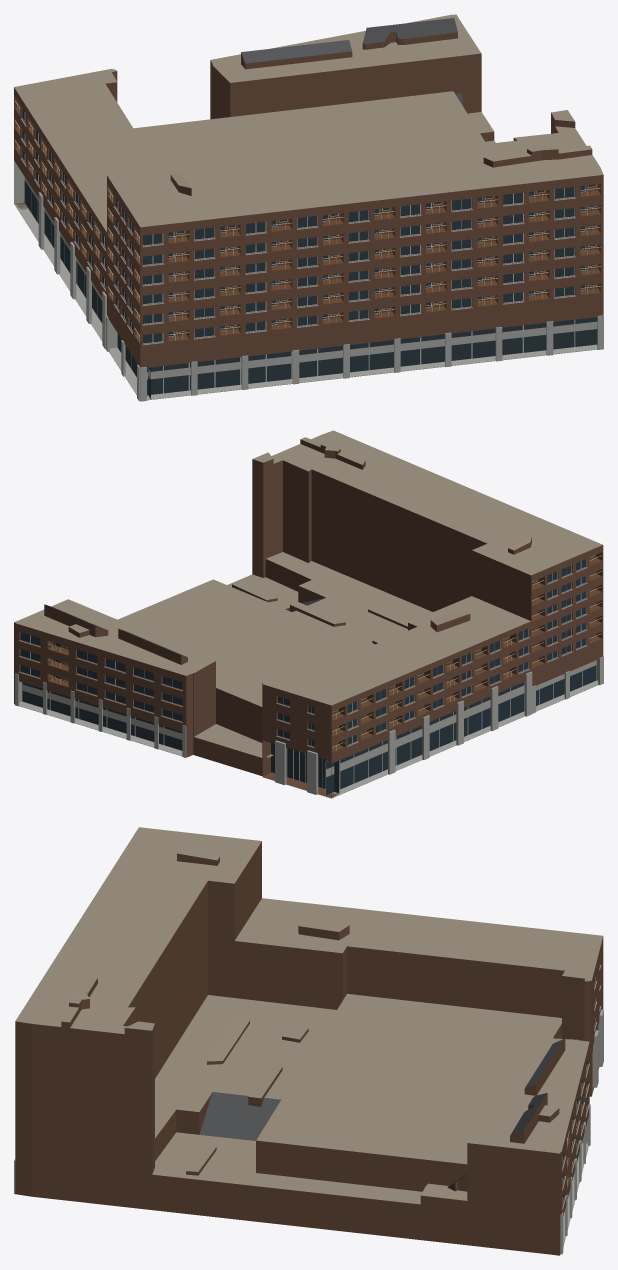
The model's file is recipe-large-rinus-michelslaan-2-26-240382.glb.
3 renders of one model, top to bottom at view 1: azimuth 30°, elevation 25°; view 2: azimuth 150°, elevation 25°; view 3: azimuth 270°, elevation 25°, orthographic. The views are drawn at different scales.
Parts seen in each view (by area): view 1: rinus-michelslaan-2-26-240382; view 2: rinus-michelslaan-2-26-240382; view 3: rinus-michelslaan-2-26-240382.
Part boxes in pixels (bbox=[...]): rinus-michelslaan-2-26-240382: bbox=[14, 14, 603, 401]; rinus-michelslaan-2-26-240382: bbox=[14, 430, 603, 798]; rinus-michelslaan-2-26-240382: bbox=[14, 827, 603, 1255].
Size of the model in its own units: 86.02 by 28.59 by 83.59.
